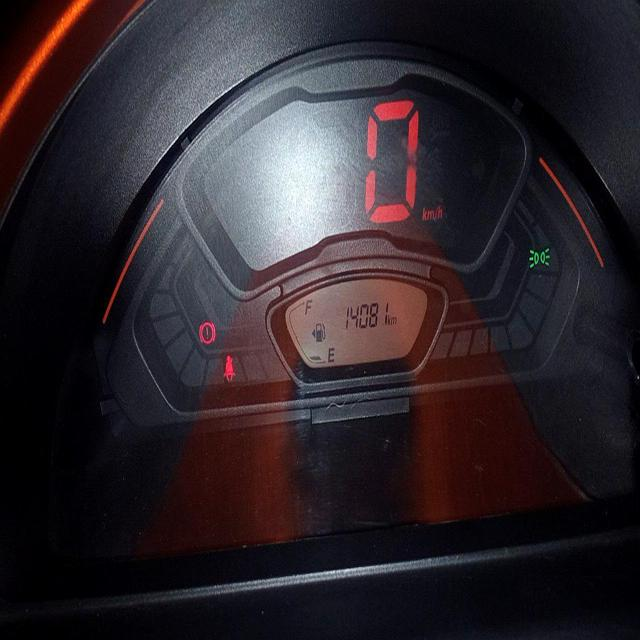odometer: (342, 297, 392, 336)
